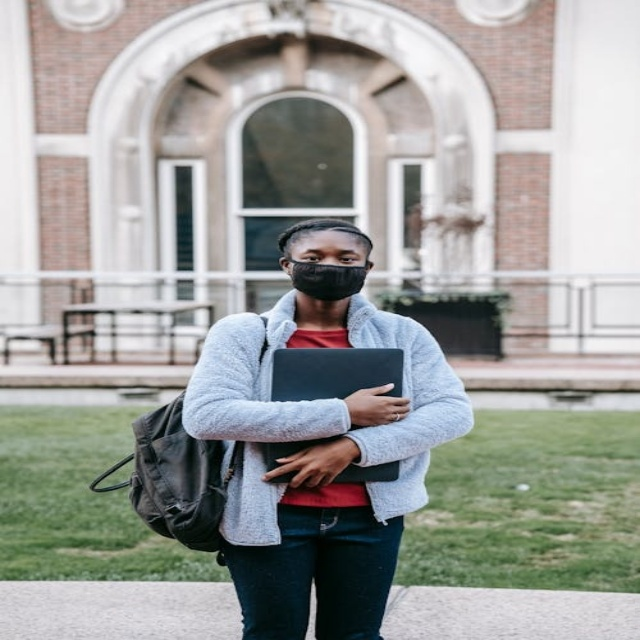Mascara: (286, 260, 369, 300)
Sin_gafas: (289, 245, 365, 260)
Sin_guantes: (260, 437, 358, 490), (342, 383, 413, 428)
